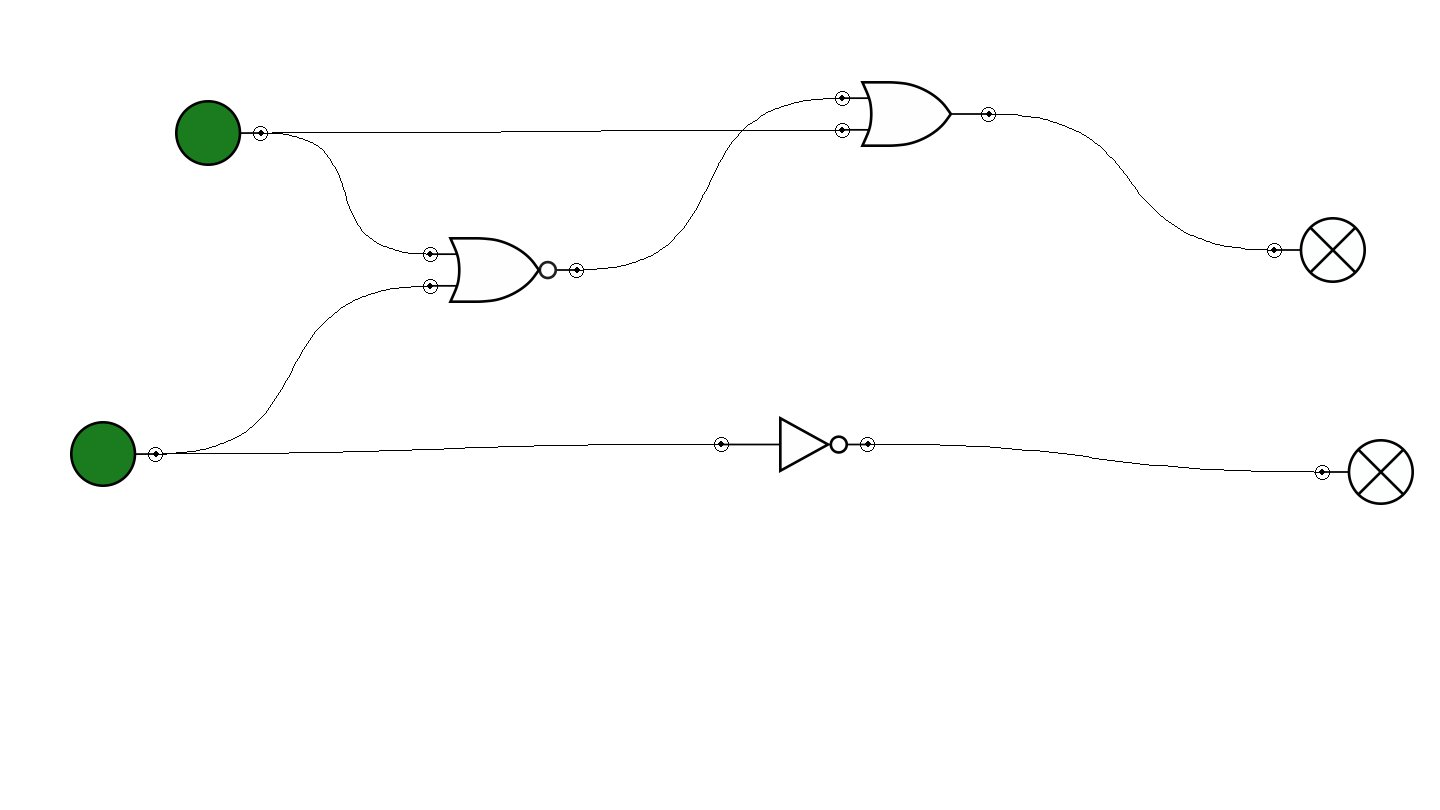bulb: (1267, 217, 1366, 283), (1315, 439, 1414, 505)
nor: (423, 237, 584, 303)
not: (714, 416, 875, 473)
or: (835, 81, 996, 147)
switch_True: (175, 100, 268, 166), (70, 421, 163, 487)
